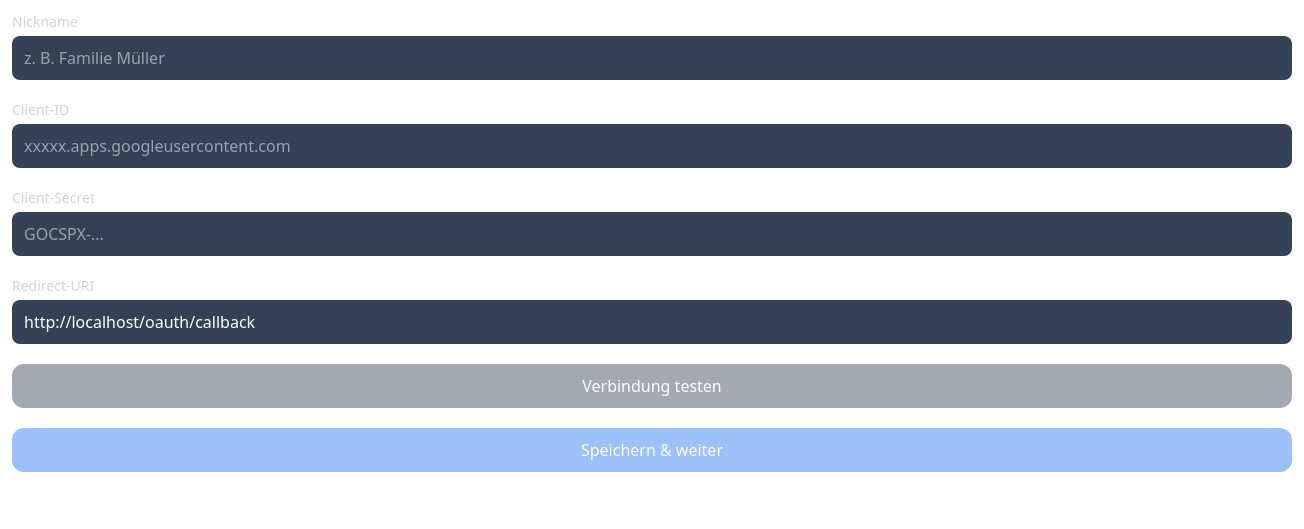
Test case: CredentialsStep › "Verbindung testen" shows green success message when isValid=true
The image size is (1304, 529).
Step 1. Type "Familie" into the field labelled "Nickname" → {"x": 652, "y": 58}, box [12,36,1292,80]
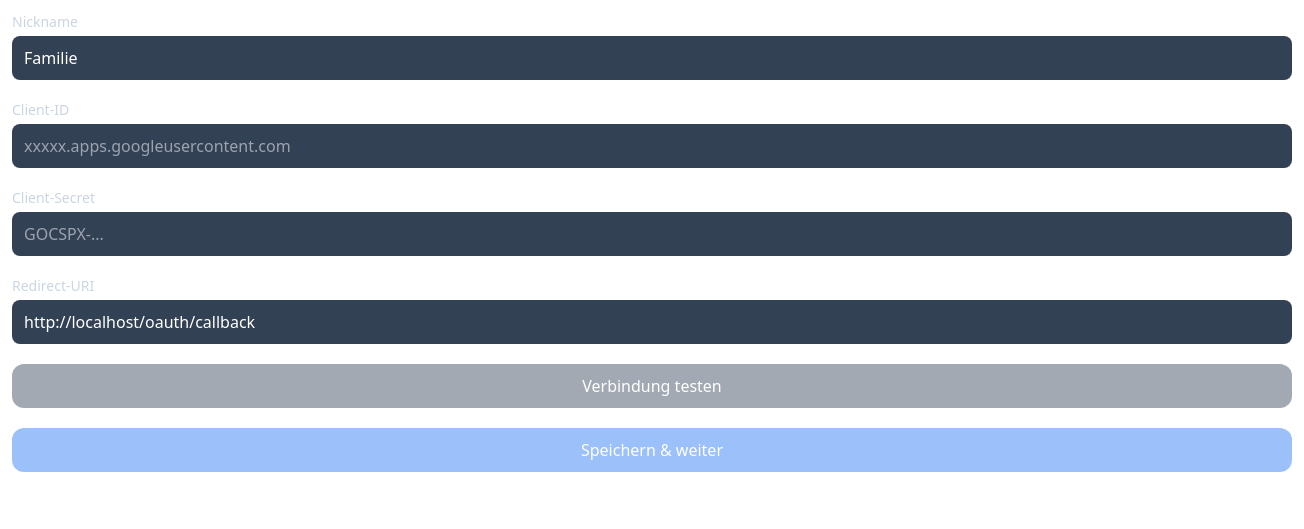
Step 2. Type "client-id-123" into the field labelled "Client-ID" → {"x": 652, "y": 146}, box [12,124,1292,168]
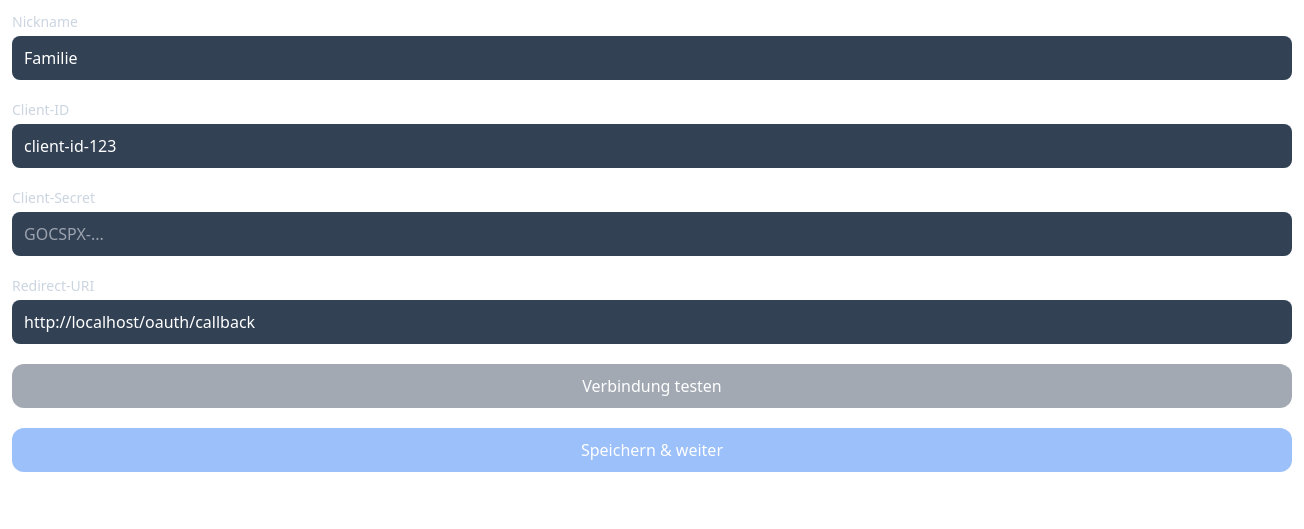
Step 3. Type "secret-abc" into the field labelled "Client-Secret" → {"x": 652, "y": 234}, box [12,212,1292,256]
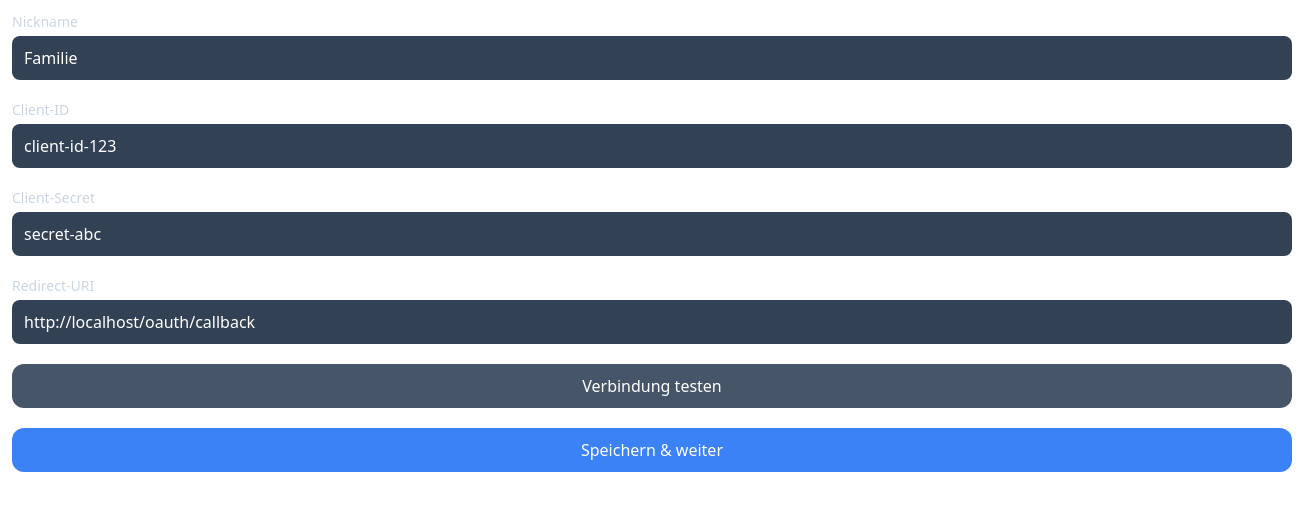
Step 4. Click the button "Verbindung testen" → {"x": 652, "y": 386}, box [12,364,1292,408]
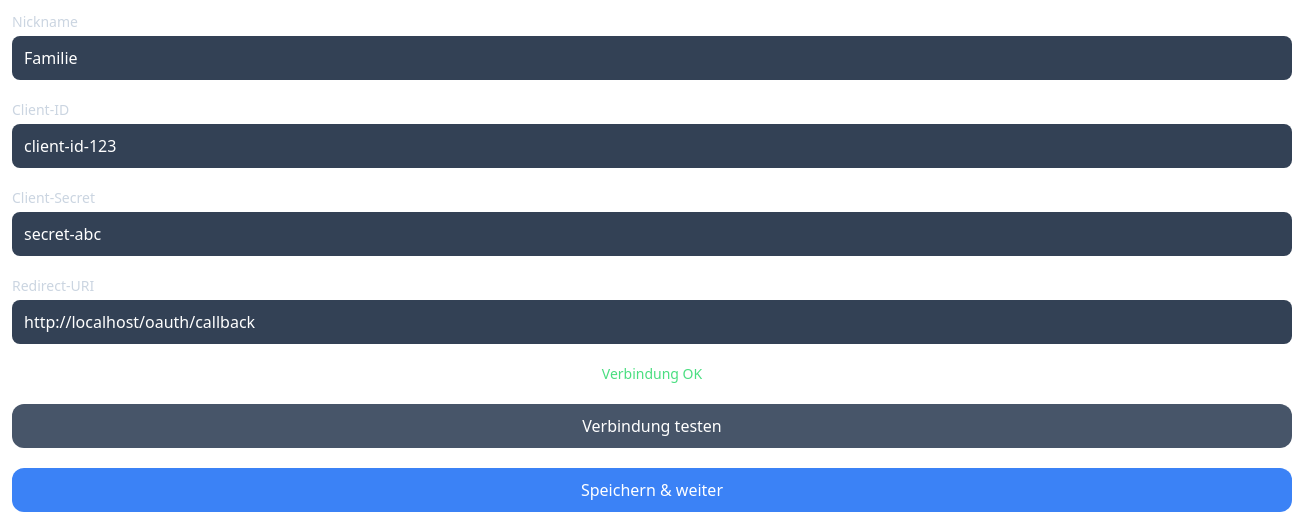
Result: the text "Verbindung OK" is shown at [602,364,702,383]
